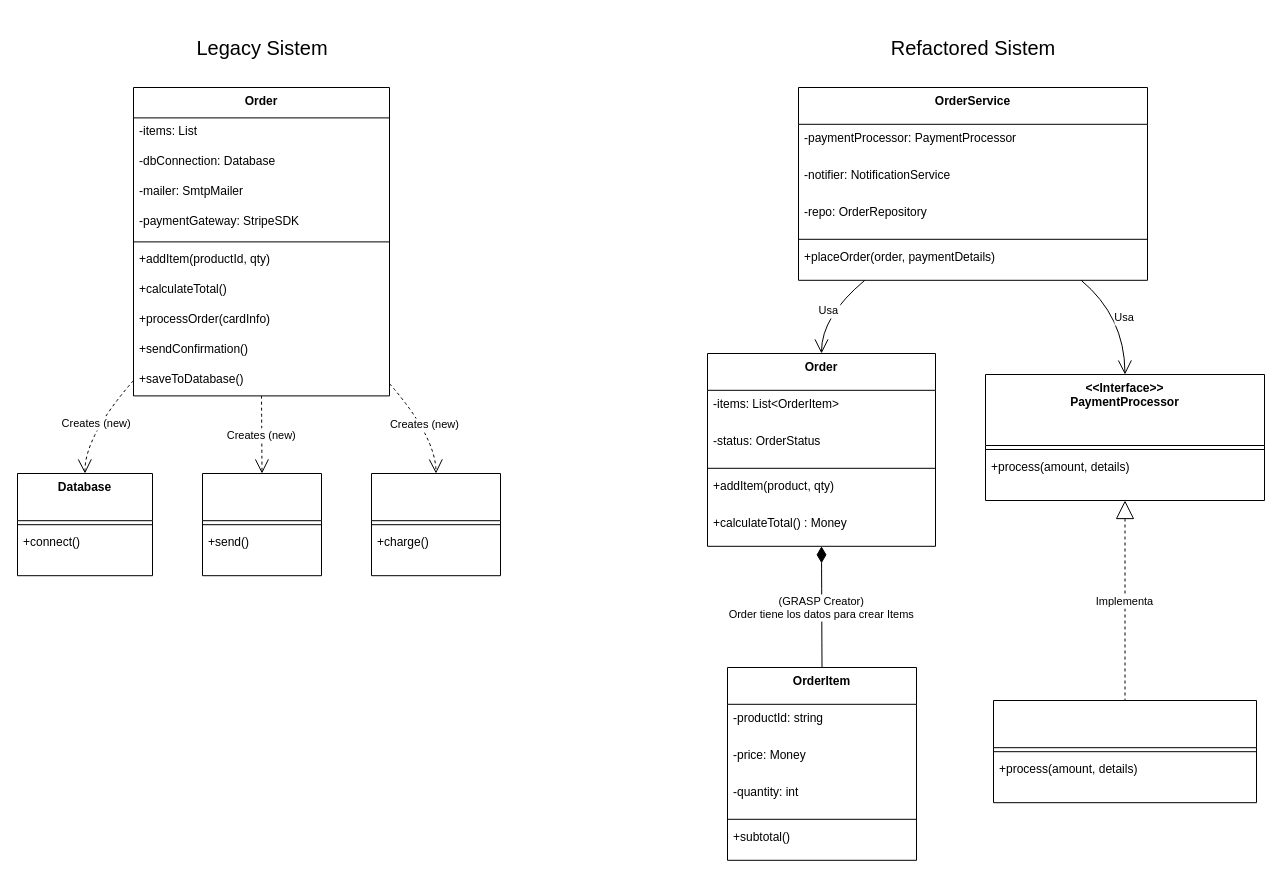
The diagram is 1282 pixels wide and 880 high, and some of its shapes have lost their labels. Here are the shapes that lost their labels. From the top down, the box of each, then its label:
(202, 472, 322, 576): SmtpMailer
(370, 472, 500, 576): StripeSDK
(992, 700, 1256, 803): StripeAdapter
